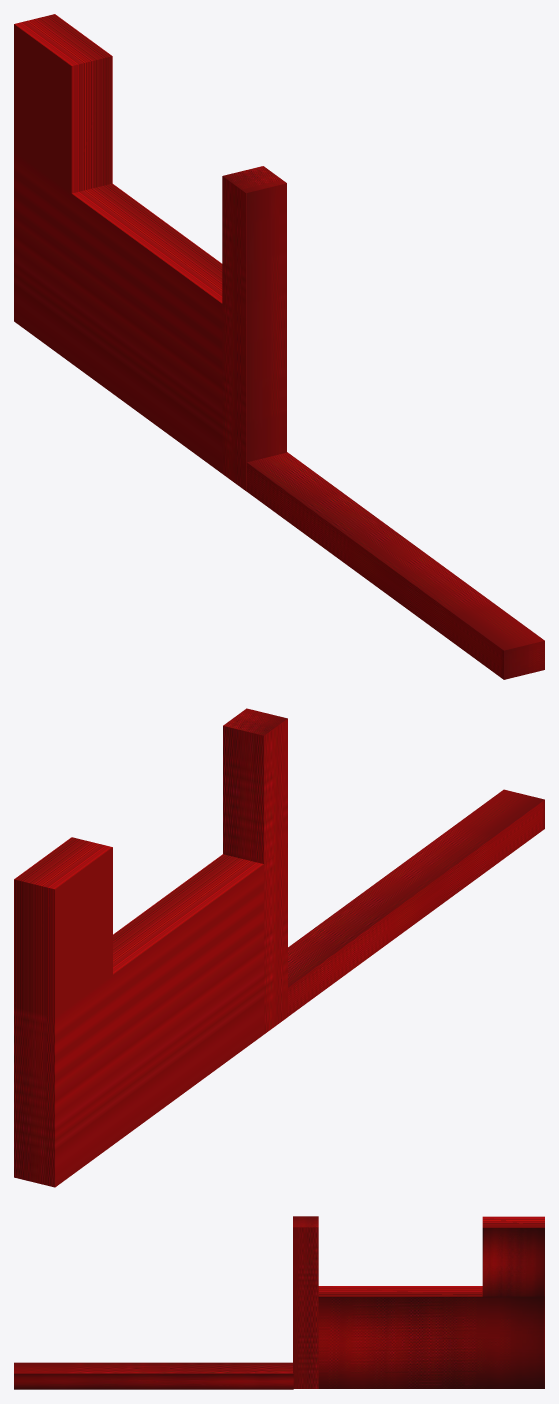
The model's file is nivel6.fbx.
3 renders of one model, top to bottom at view 1: azimuth 30°, elevation 25°; view 2: azimuth 150°, elevation 25°; view 3: azimuth 270°, elevation 25°, orthographic. The views are drawn at different scales.
Visible parts, largest first — view 1: Cube.011; view 2: Cube.011; view 3: Cube.011.
Boxes of the visible parts, x1,y1,x2,y2 form: Cube.011: [14, 14, 544, 679]; Cube.011: [14, 708, 544, 1187]; Cube.011: [14, 1216, 544, 1389].
Bounding box in the file's own units: 203 × 1391 × 4131.
